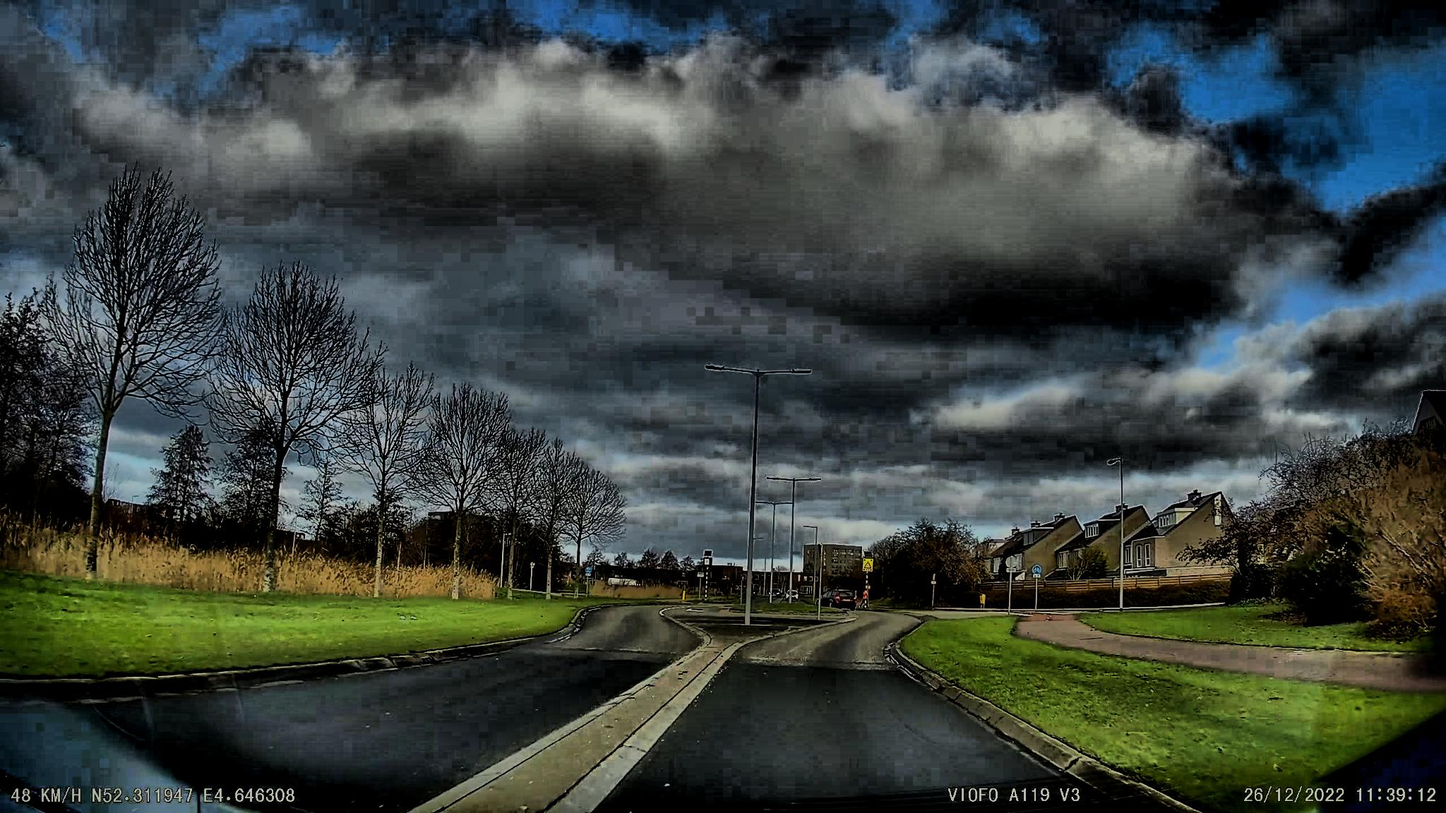Roads: (0, 611, 1127, 813)
